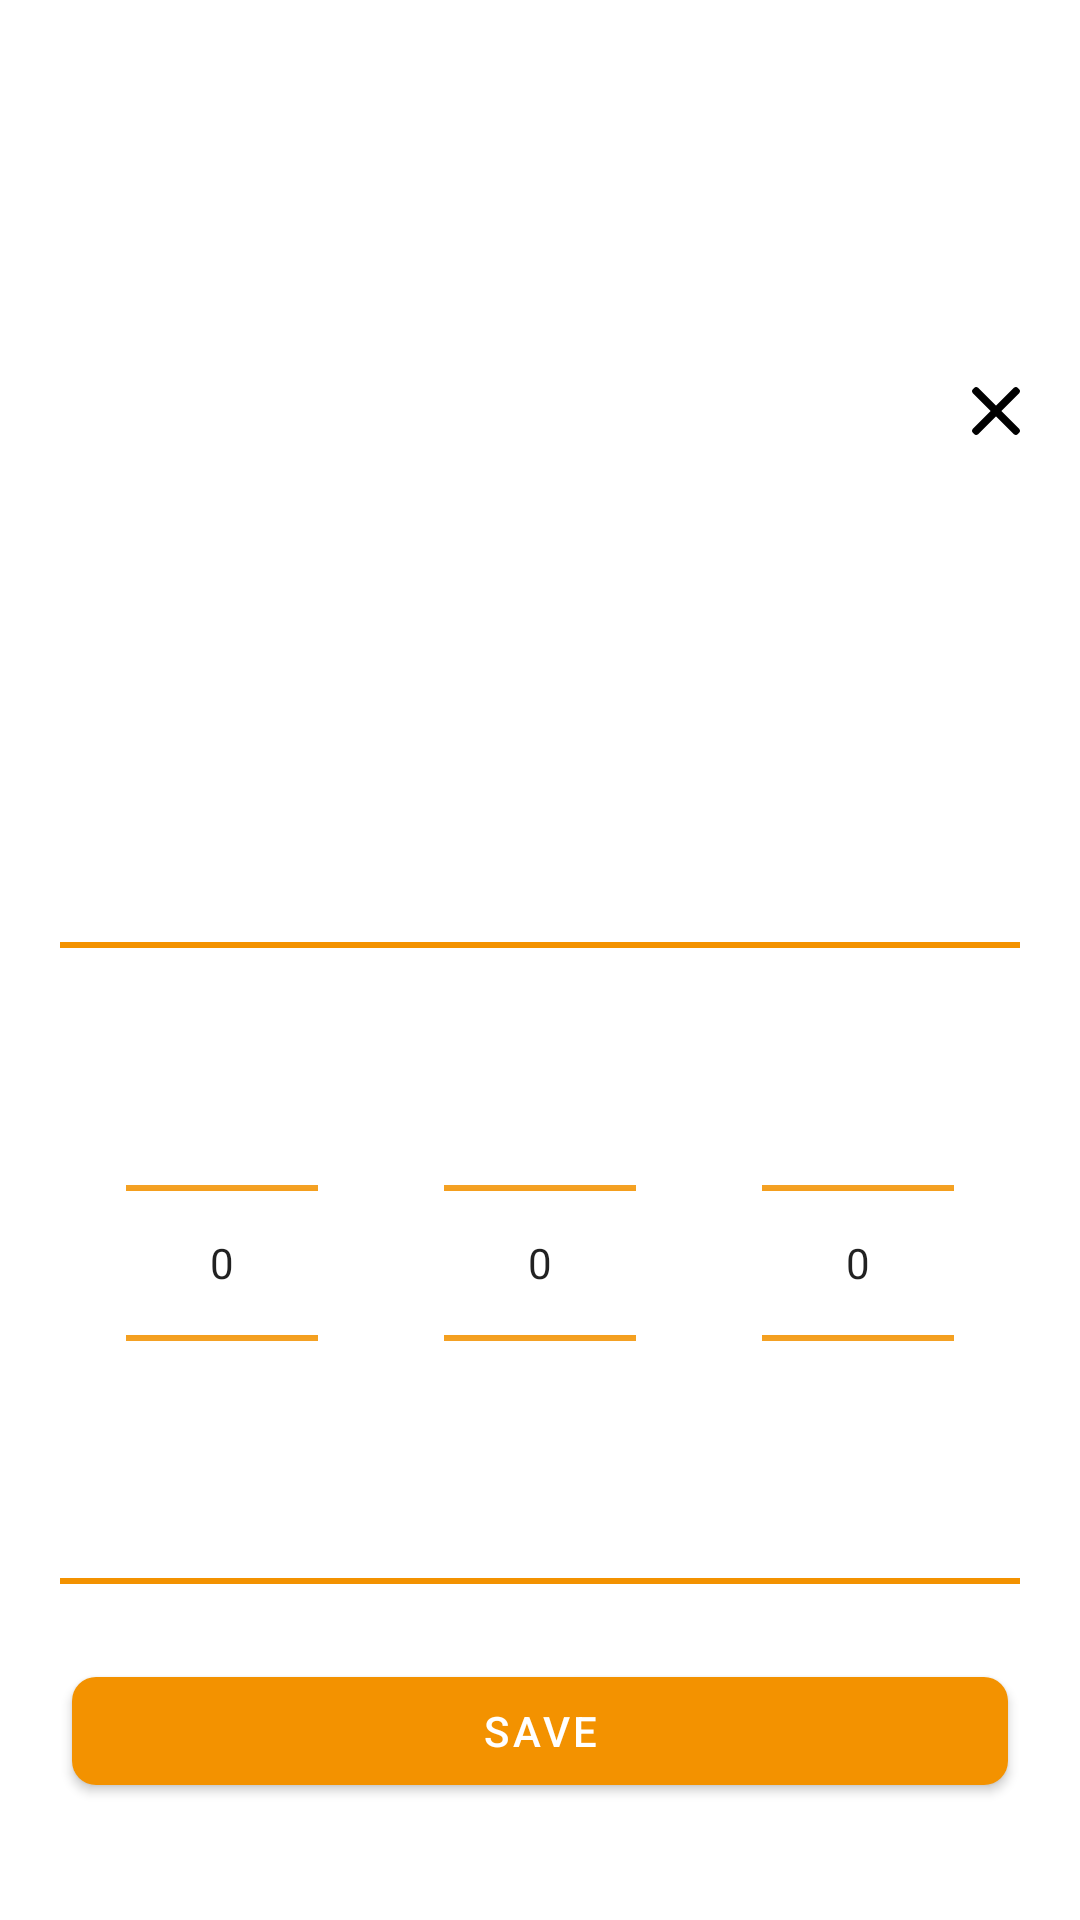

Icon click points for this 1080x1920 phone screenshot, format (x=x, y=y):
Cancel: (x=996, y=411)
